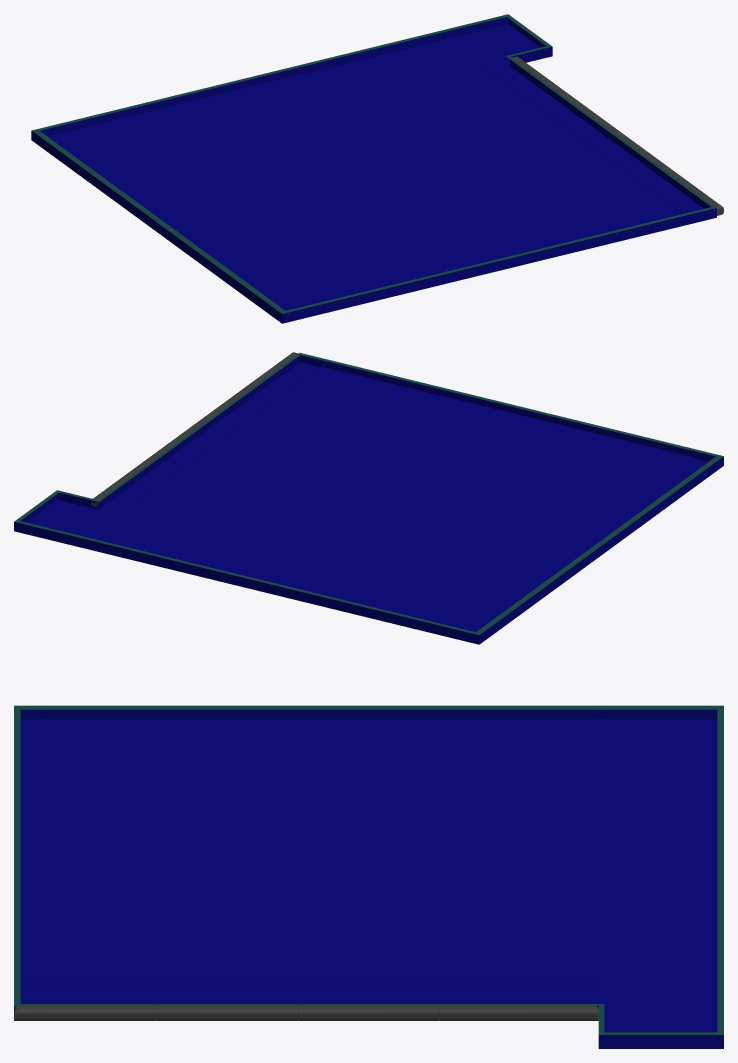
Rendered from FloatingAptBase_mesh.fbx.
3 views of the same model, one above another, from view 1: azimuth 30°, elevation 25°; view 2: azimuth 150°, elevation 25°; view 3: azimuth 270°, elevation 25° (orthographic). The views are drawn at different scales.
Parts seen in each view (by area): view 1: FloatingAptBase_mesh; view 2: FloatingAptBase_mesh; view 3: FloatingAptBase_mesh.
Boxes of the visible parts, <box> form: FloatingAptBase_mesh: <box>31,14,723,323</box>; FloatingAptBase_mesh: <box>14,352,723,644</box>; FloatingAptBase_mesh: <box>14,705,723,1048</box>.
Size of the model in its own units: 1298 by 22.34 by 1039.
